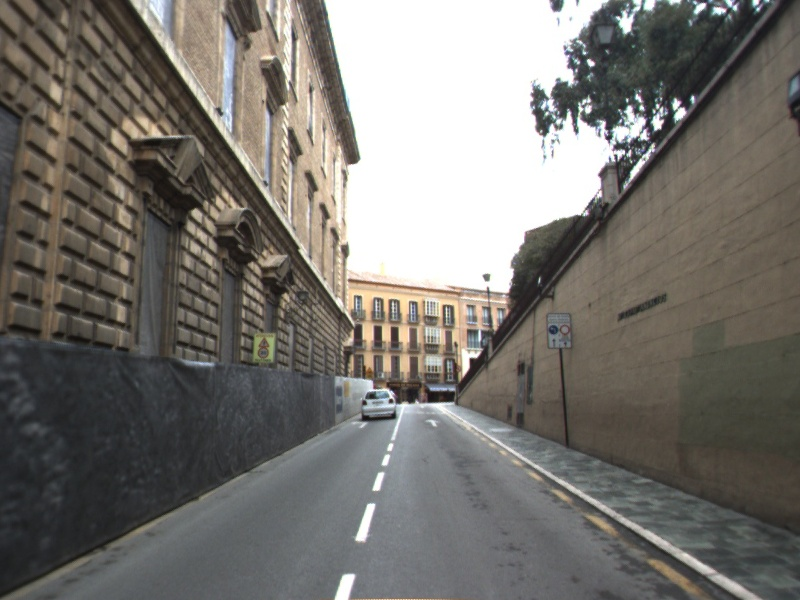LEFT: (349, 418, 371, 430)
STRAIGHT: (423, 417, 443, 428)
